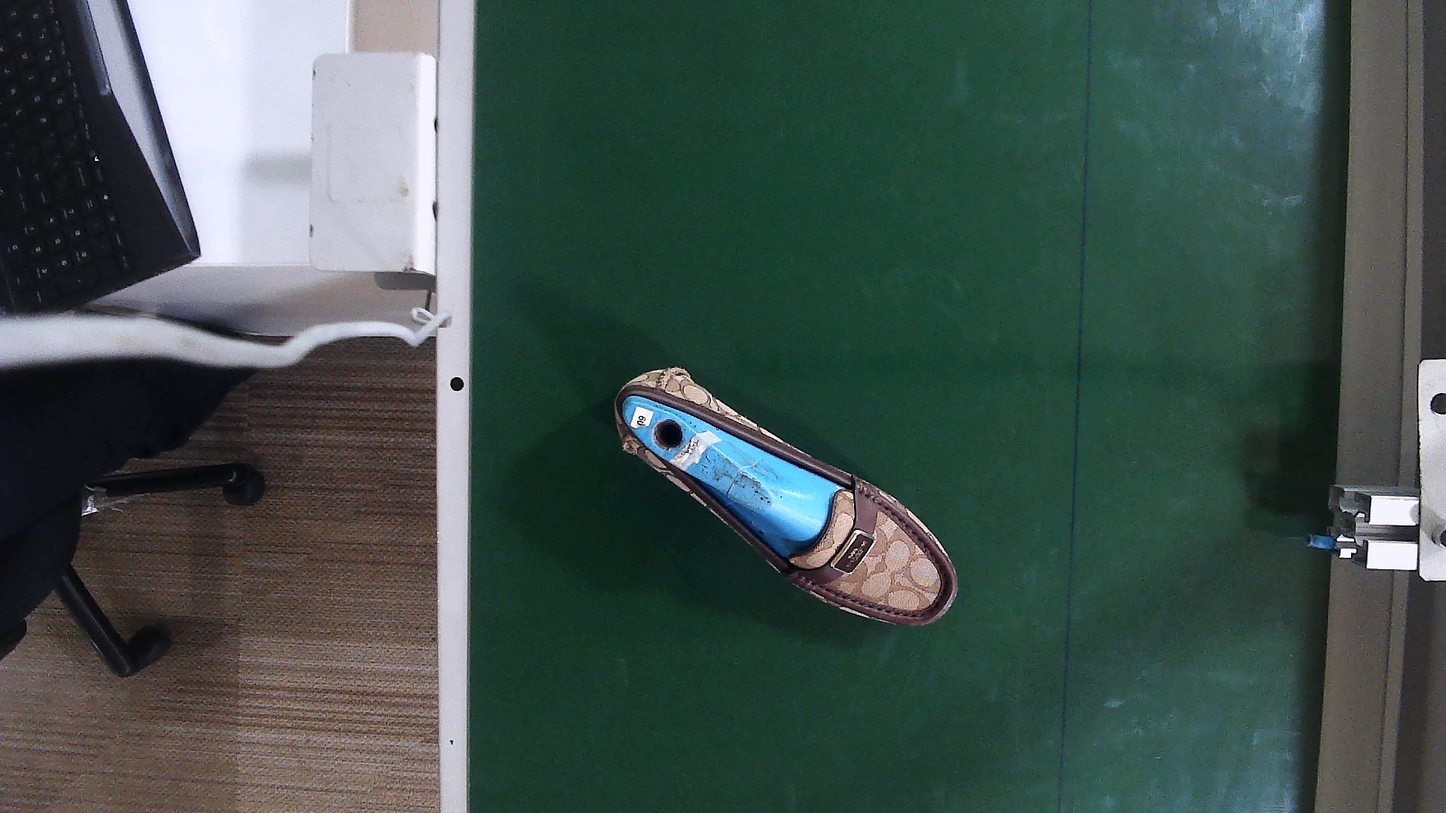shoe: (618, 370, 955, 624)
